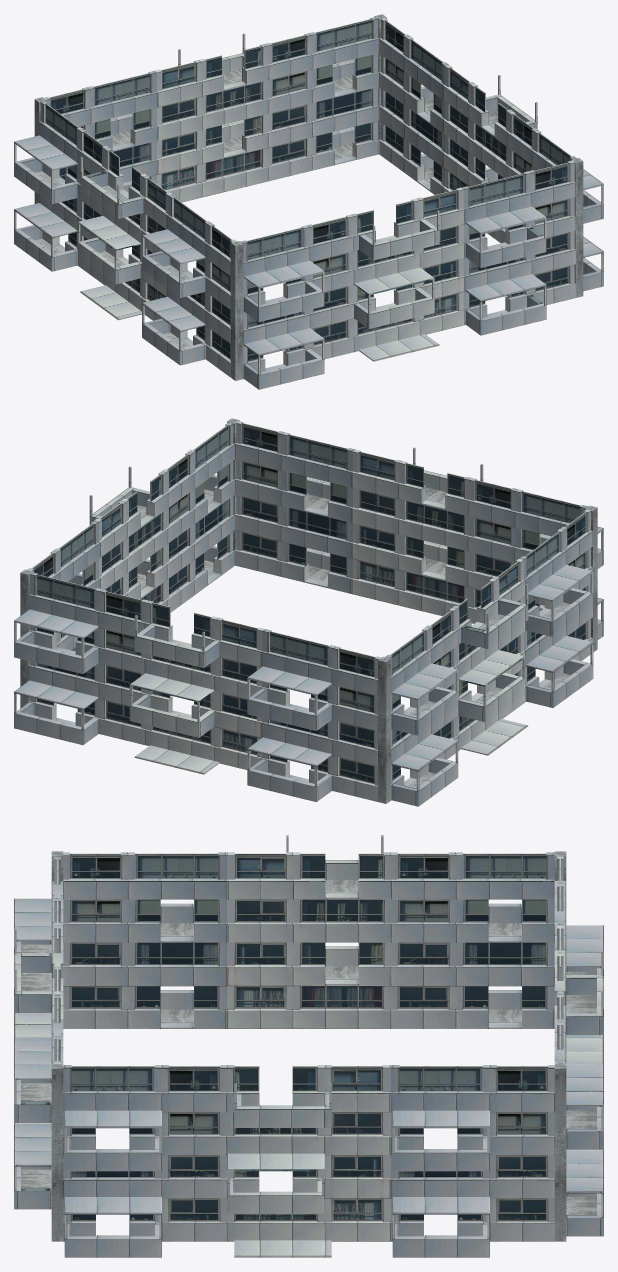
Rendered from BagSS06mid_200.fbx.
3 views of the same model, one above another, from view 1: azimuth 30°, elevation 25°; view 2: azimuth 150°, elevation 25°; view 3: azimuth 270°, elevation 25° (orthographic). The views are drawn at different scales.
Parts seen in each view (by area): view 1: midMain100, midBeams100, midBalcFloors100; view 2: midMain100, midBeams100, midBalcFloors100; view 3: midMain100, midBalcFloors100, midBeams100.
Part boxes in pixels (box(x1,y1,x2,y2)): midMain100: box(14, 17, 603, 389); midBeams100: box(34, 14, 583, 380); midBalcFloors100: box(35, 69, 497, 347); midMain100: box(14, 421, 603, 806); midBeams100: box(20, 418, 597, 803); midBalcFloors100: box(137, 487, 570, 788); midMain100: box(14, 835, 603, 1257); midBalcFloors100: box(21, 880, 596, 1214); midBeams100: box(51, 851, 566, 1241).
Size of the model in its own units: 46.05 by 14.88 by 46.05.
